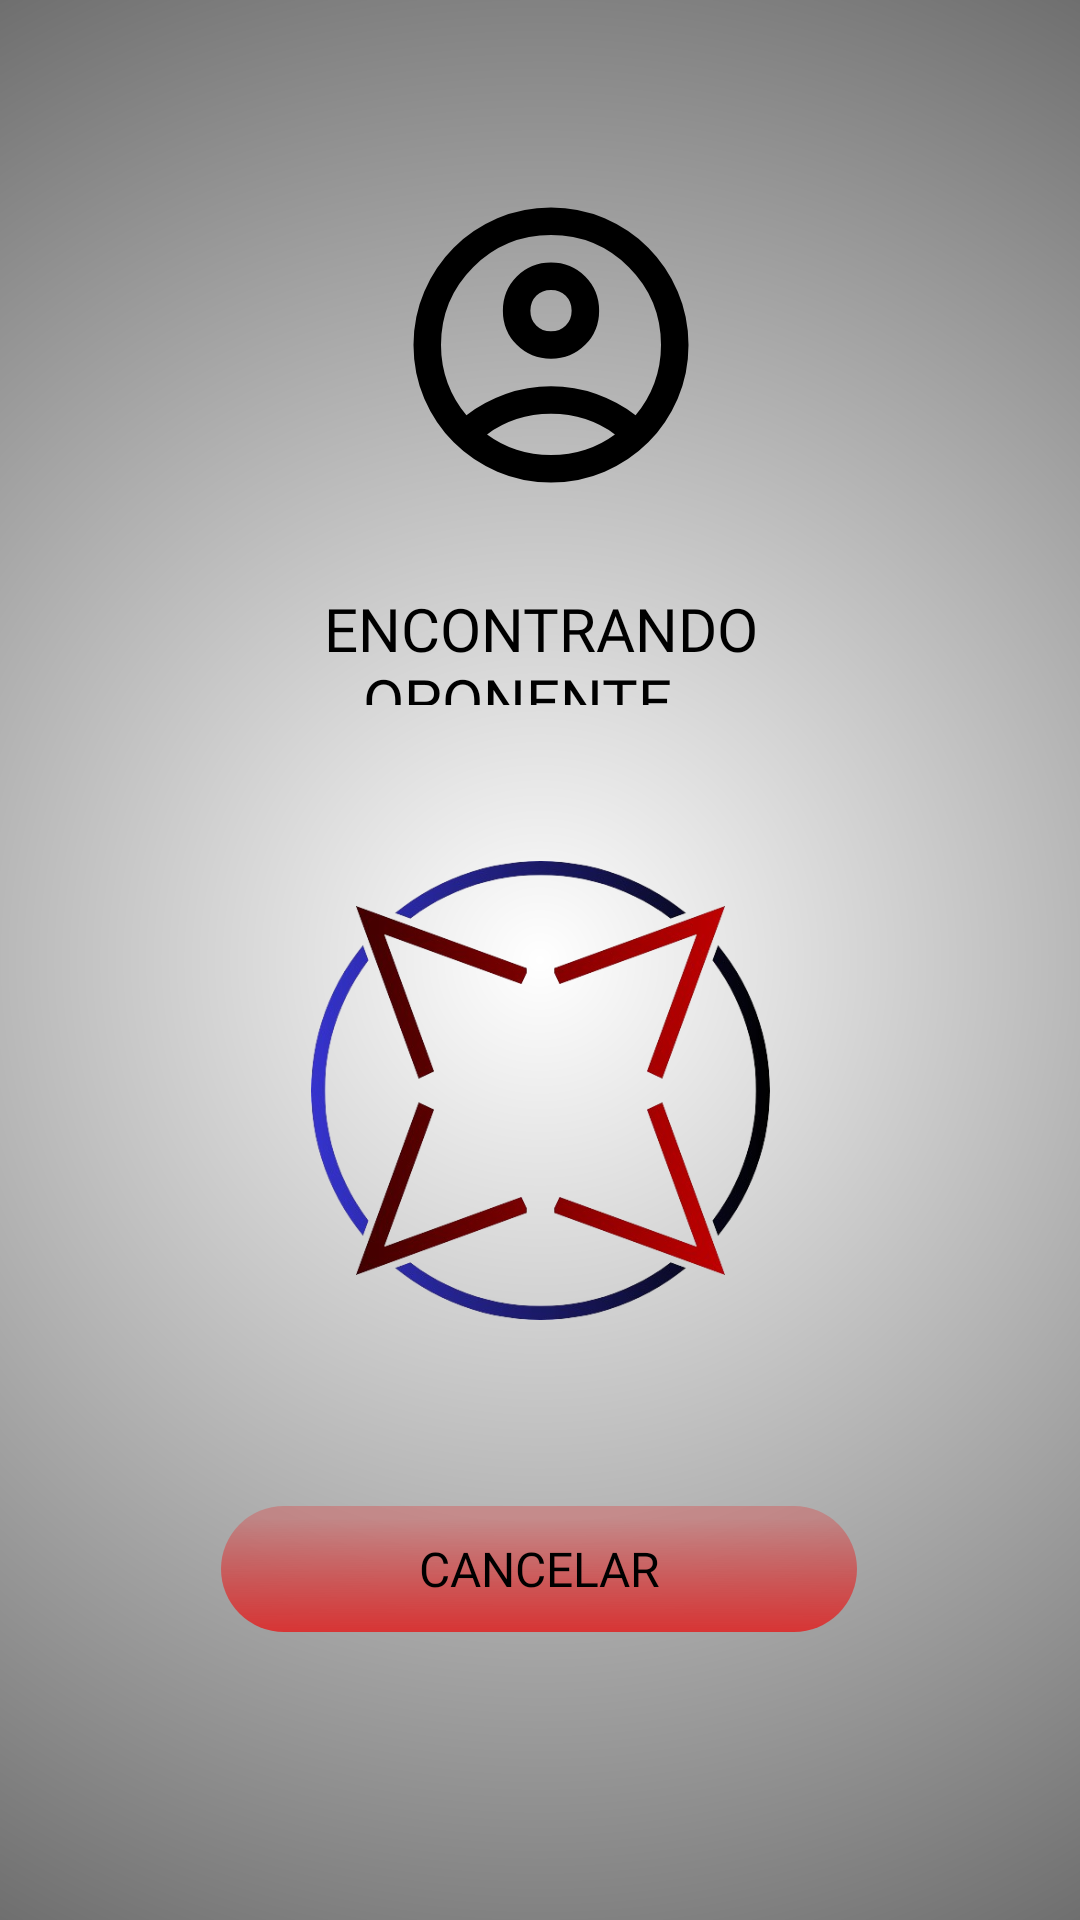

Point at icon controls on the screen. Image size 1080x1920, points as [x,y].
account: [551,345]
